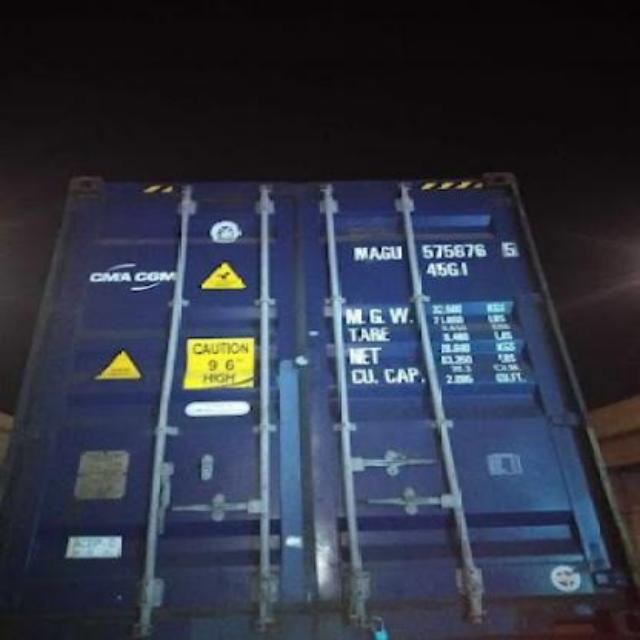5: (498, 235, 520, 261), (418, 238, 432, 258), (444, 234, 454, 260)
6: (474, 238, 486, 258)
7: (462, 231, 474, 261), (434, 234, 444, 258)
8: (452, 230, 464, 260)
A: (366, 240, 379, 262)
G: (376, 241, 389, 261)
M: (347, 242, 368, 262)
U: (388, 240, 404, 264)
